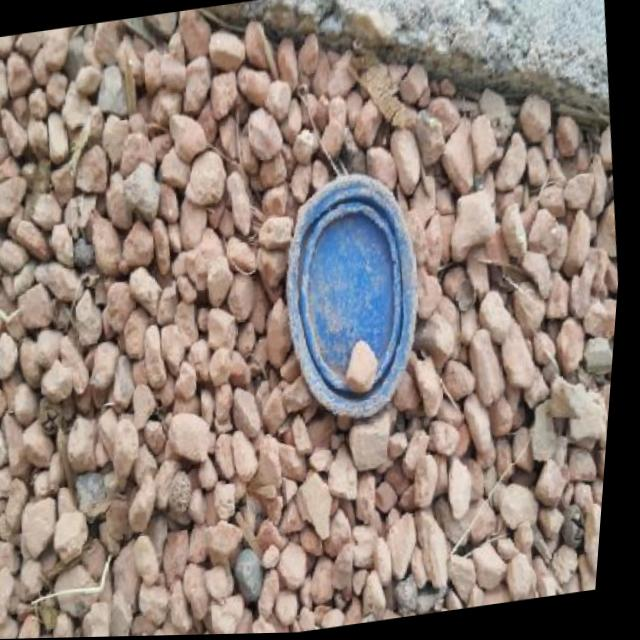plastic: (170, 285, 445, 449)
